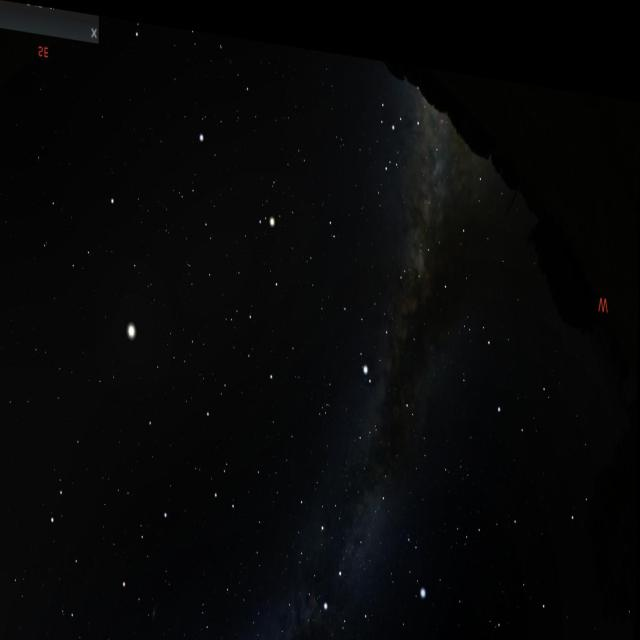aquila: (335, 235, 418, 382)
cygnus: (317, 470, 388, 624)
lyra: (394, 505, 432, 592)
